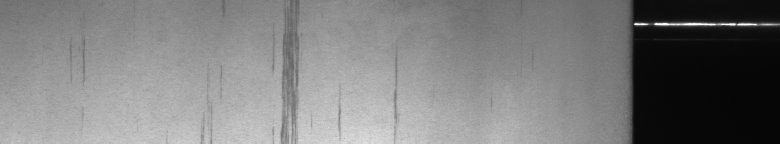hd: (222, 4, 400, 136)
